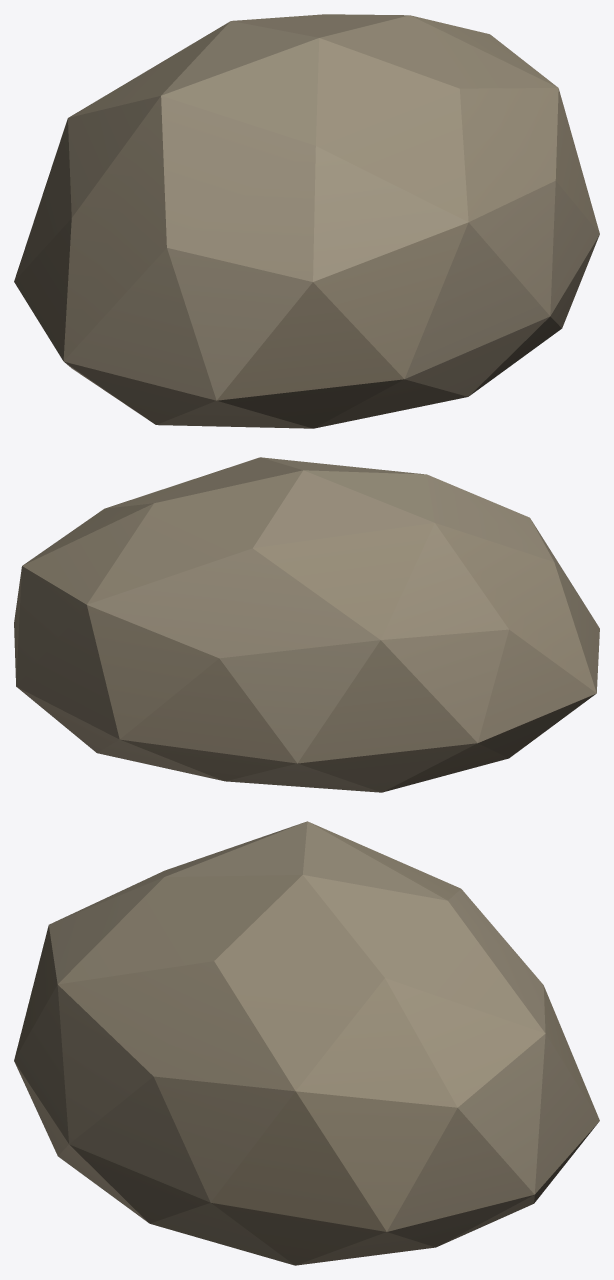
File: ground_rock_small_v3.fbx
The picture shows the model from 3 angles, top to bottom: view 1: azimuth 30°, elevation 25°; view 2: azimuth 150°, elevation 25°; view 3: azimuth 270°, elevation 25°; orthographic projection. The views are drawn at different scales.
Parts seen in each view (by area): view 1: ground_rock_small_v3; view 2: ground_rock_small_v3; view 3: ground_rock_small_v3.
Boxes of the visible parts, x1,y1,x2,y2 form: ground_rock_small_v3: [14, 14, 599, 428]; ground_rock_small_v3: [14, 457, 599, 792]; ground_rock_small_v3: [14, 821, 599, 1265].
Size of the model in its own units: 277 by 122 by 241.
